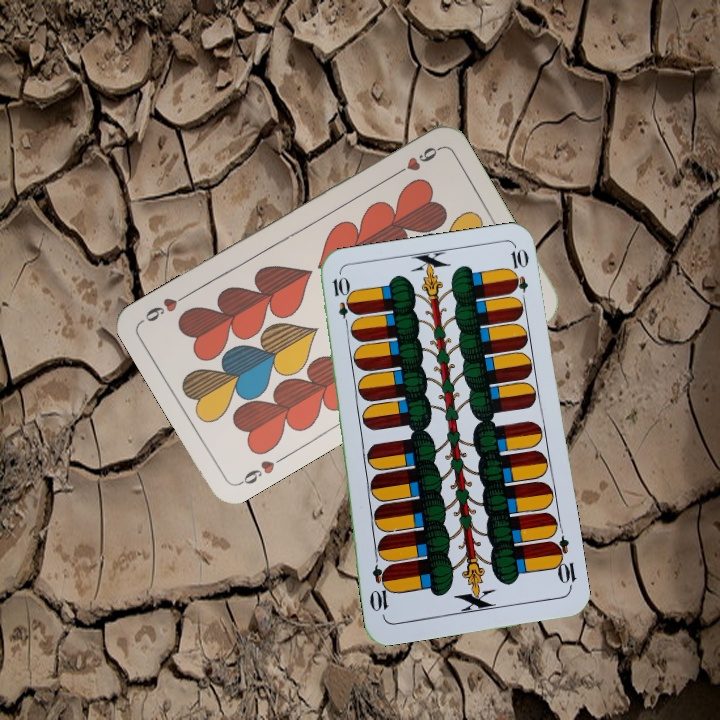E10: (547, 533, 579, 592), (328, 273, 354, 332)
H9: (389, 143, 443, 180), (234, 452, 288, 488)
